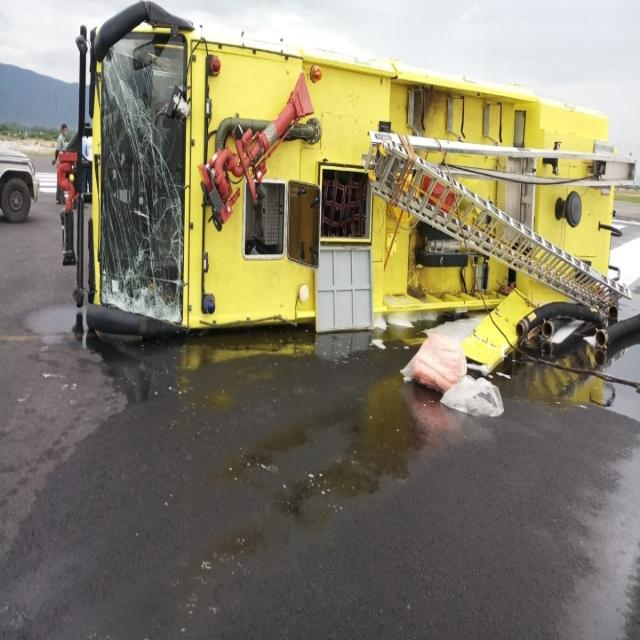accident: (58, 0, 639, 373)
